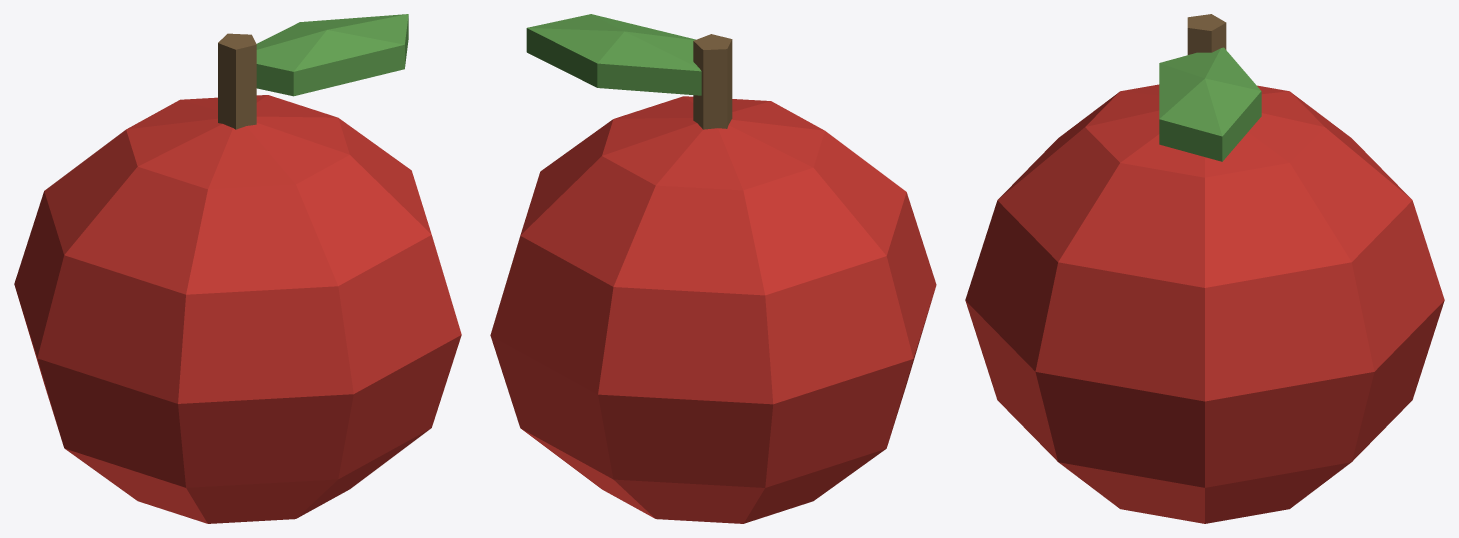
Rendered from maca.glb.
3 renders of one model, left to right at view 1: azimuth 30°, elevation 25°; view 2: azimuth 150°, elevation 25°; view 3: azimuth 270°, elevation 25°, orthographic. The views are drawn at different scales.
Parts seen in each view (by area): view 1: Cylinder; view 2: Cylinder; view 3: Cylinder.
Boxes of the visible parts, bbox=[...] form: Cylinder: bbox=[14, 14, 461, 523]; Cylinder: bbox=[490, 14, 936, 523]; Cylinder: bbox=[965, 14, 1444, 523].
Bounding box in the file's own units: 0.18 × 0.1978 × 0.18.
